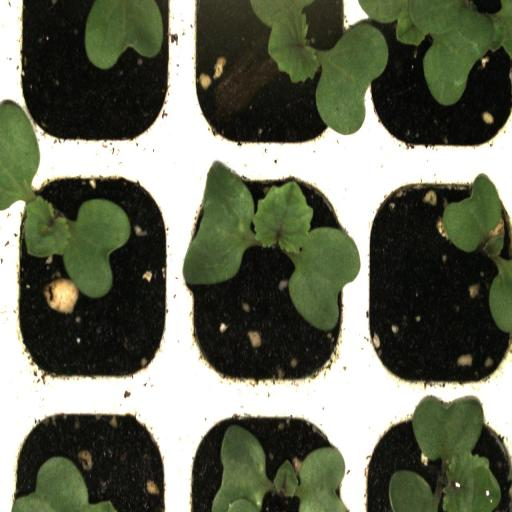Folha: (211, 425, 346, 512), (443, 173, 512, 335), (12, 456, 117, 512), (84, 0, 164, 70)
Germinacao: (180, 159, 359, 396), (13, 158, 177, 396), (184, 0, 359, 151), (357, 398, 512, 512)
